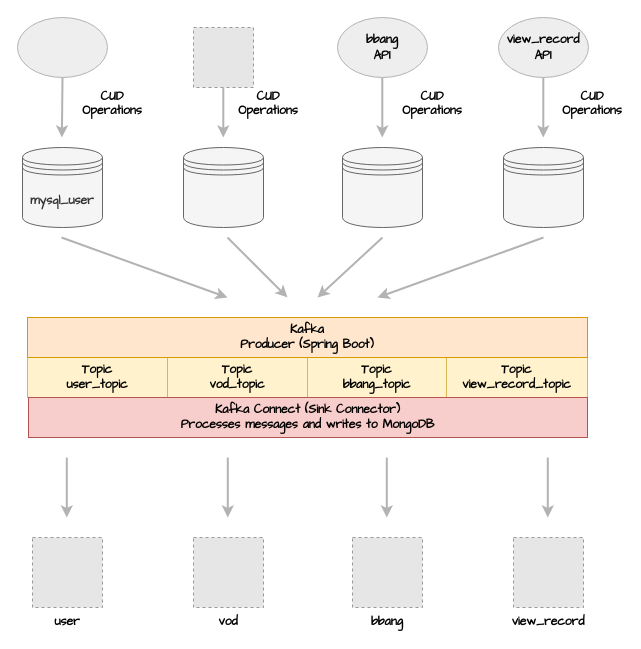
Some shapes in this 641 by 649 pixel diagram are drawn without their labels. Grey dashed boxes stand in for pictures. Here are the shapes that lost their labels. From the top down, the centre of each, then its label:
At (x=62, y=47): "account API".
At (x=223, y=187): "mysql_vod".
At (x=382, y=187): "mysql_bbang".
At (x=543, y=187): "mysql_ view_record".
